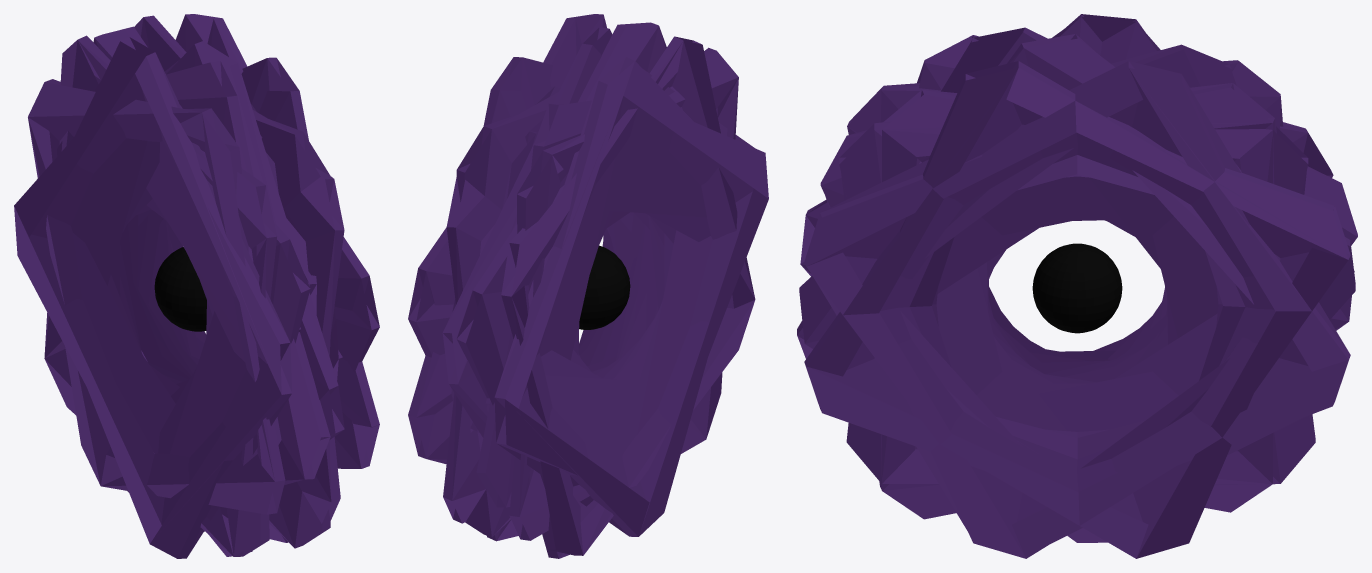
Rendered from blackhole.fbx.
3 views of the same model, side by side, from view 1: azimuth 30°, elevation 25°; view 2: azimuth 150°, elevation 25°; view 3: azimuth 270°, elevation 25° (orthographic). The views are drawn at different scales.
Parts seen in each view (by area): view 1: Cylinder, Sphere; view 2: Cylinder, Sphere; view 3: Cylinder, Sphere.
Boxes of the visible parts, bbox=[...] form: Cylinder: bbox=[14, 14, 379, 558]; Sphere: bbox=[154, 247, 206, 331]; Cylinder: bbox=[408, 14, 768, 558]; Sphere: bbox=[579, 245, 630, 329]; Cylinder: bbox=[797, 14, 1357, 558]; Sphere: bbox=[1032, 243, 1122, 333].
Bounding box in the file's own units: 26.4 × 125 × 125.
